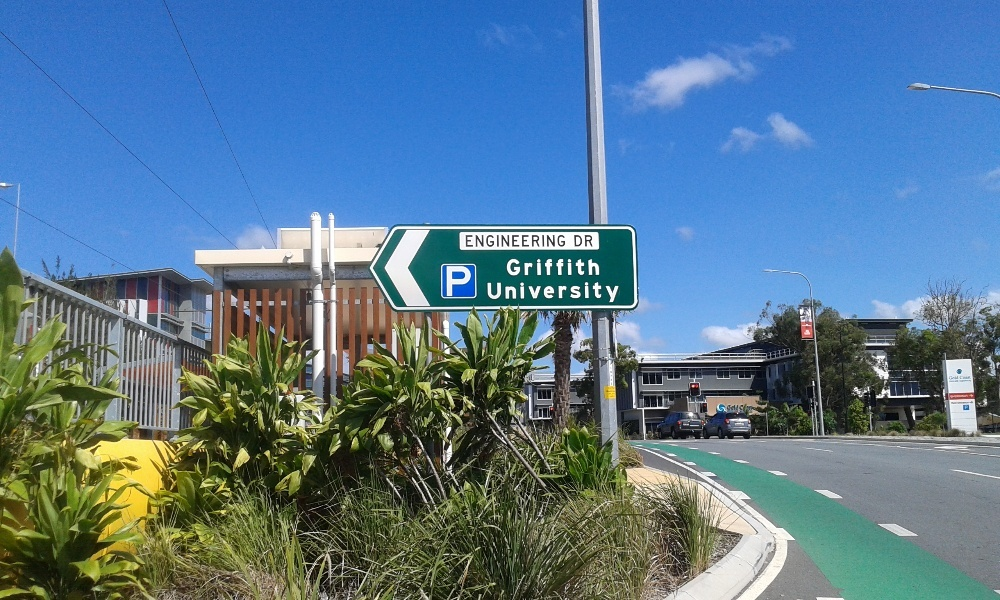text: (449, 266, 464, 298), (465, 266, 475, 298), (497, 282, 512, 303), (513, 282, 528, 303), (529, 282, 544, 303), (545, 282, 560, 303), (561, 282, 576, 303), (577, 282, 592, 303), (593, 282, 608, 303), (609, 282, 622, 303), (513, 259, 528, 277), (529, 259, 544, 277), (545, 259, 560, 277), (561, 259, 576, 277), (577, 259, 592, 277), (486, 282, 496, 303), (577, 235, 593, 248), (465, 235, 480, 247), (481, 235, 496, 247), (497, 235, 512, 247), (513, 235, 528, 247), (529, 235, 544, 247), (545, 235, 560, 247), (593, 259, 601, 277), (609, 366, 615, 386), (506, 259, 512, 277), (445, 266, 448, 298), (609, 387, 617, 399), (737, 406, 753, 411), (963, 405, 976, 410), (561, 235, 566, 247), (726, 406, 736, 411), (950, 394, 960, 399), (948, 376, 960, 380), (961, 394, 969, 399), (948, 380, 960, 383), (961, 376, 972, 379), (961, 380, 972, 383), (951, 402, 960, 405), (961, 402, 970, 405), (574, 235, 576, 248), (606, 387, 608, 399)
